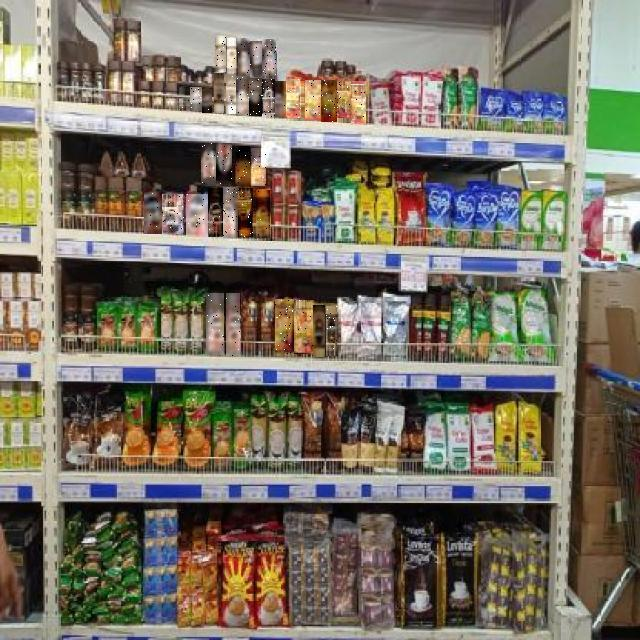Coffee: (207, 293, 225, 355), (294, 300, 314, 354), (275, 300, 294, 356), (186, 194, 208, 237), (226, 293, 240, 356), (162, 195, 184, 235), (224, 187, 240, 238), (240, 188, 256, 237), (144, 192, 162, 234), (208, 188, 223, 237), (321, 80, 337, 122), (216, 144, 232, 186), (256, 190, 270, 238), (305, 80, 321, 120), (201, 144, 216, 186), (288, 79, 304, 118), (313, 305, 325, 357), (351, 84, 366, 124), (251, 148, 266, 186), (337, 82, 351, 122), (236, 146, 250, 186), (326, 306, 337, 356), (262, 40, 276, 78), (236, 76, 249, 116), (249, 79, 262, 117), (262, 80, 275, 118), (238, 39, 250, 77), (276, 81, 288, 117), (250, 41, 262, 77), (214, 73, 224, 113), (226, 75, 236, 115), (216, 36, 226, 72), (227, 38, 236, 73), (190, 87, 202, 111), (180, 87, 190, 111), (202, 89, 212, 113)
